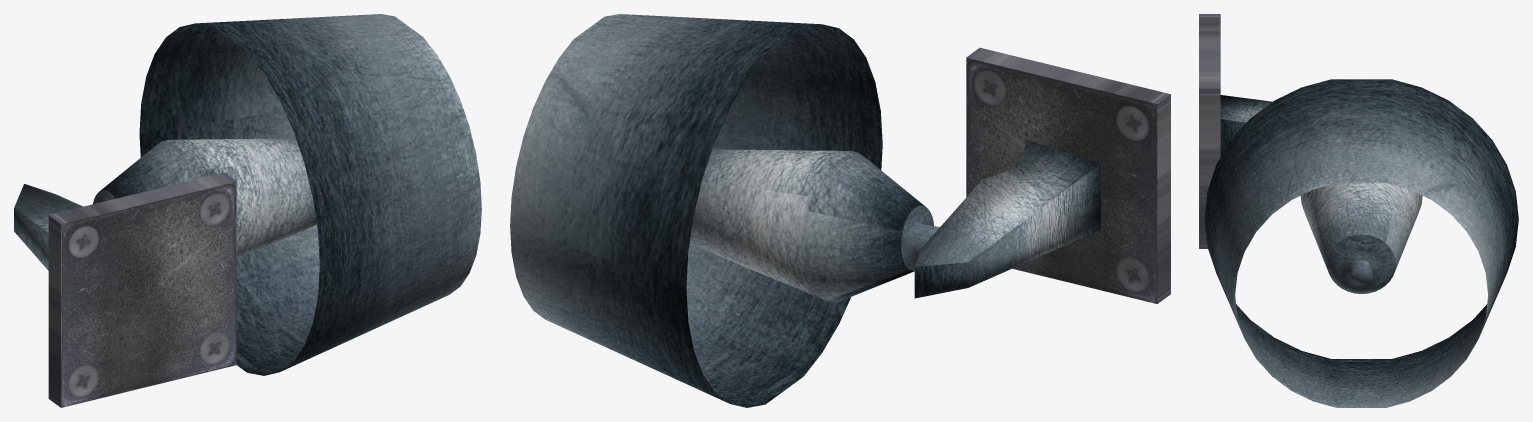
The model's file is propeller.glb.
3 views of the same model, side by side, from view 1: azimuth 30°, elevation 25°; view 2: azimuth 150°, elevation 25°; view 3: azimuth 270°, elevation 25° (orthographic). The views are drawn at different scales.
Visible parts, largest first — view 1: Cylinder, Plane, Cylinder.001, Cube; view 2: Cylinder, Plane, Cylinder.001, Cube; view 3: Cylinder, Cylinder.001, Plane, Cube.
Boxes of the visible parts, x1,y1,x2,y2 form: Cylinder: [139, 14, 481, 375]; Plane: [48, 172, 236, 407]; Cylinder.001: [93, 138, 316, 258]; Cube: [14, 184, 82, 270]; Cylinder: [510, 14, 882, 407]; Plane: [966, 47, 1170, 303]; Cylinder.001: [689, 149, 939, 302]; Cube: [914, 140, 1100, 298]; Cylinder: [1204, 79, 1518, 407]; Cylinder.001: [1300, 183, 1422, 293]; Plane: [1199, 14, 1220, 248]; Cube: [1220, 95, 1272, 156].
Size of the model in its own units: 1.69 by 1.18 by 1.22.
2 materials, 2 textured.
